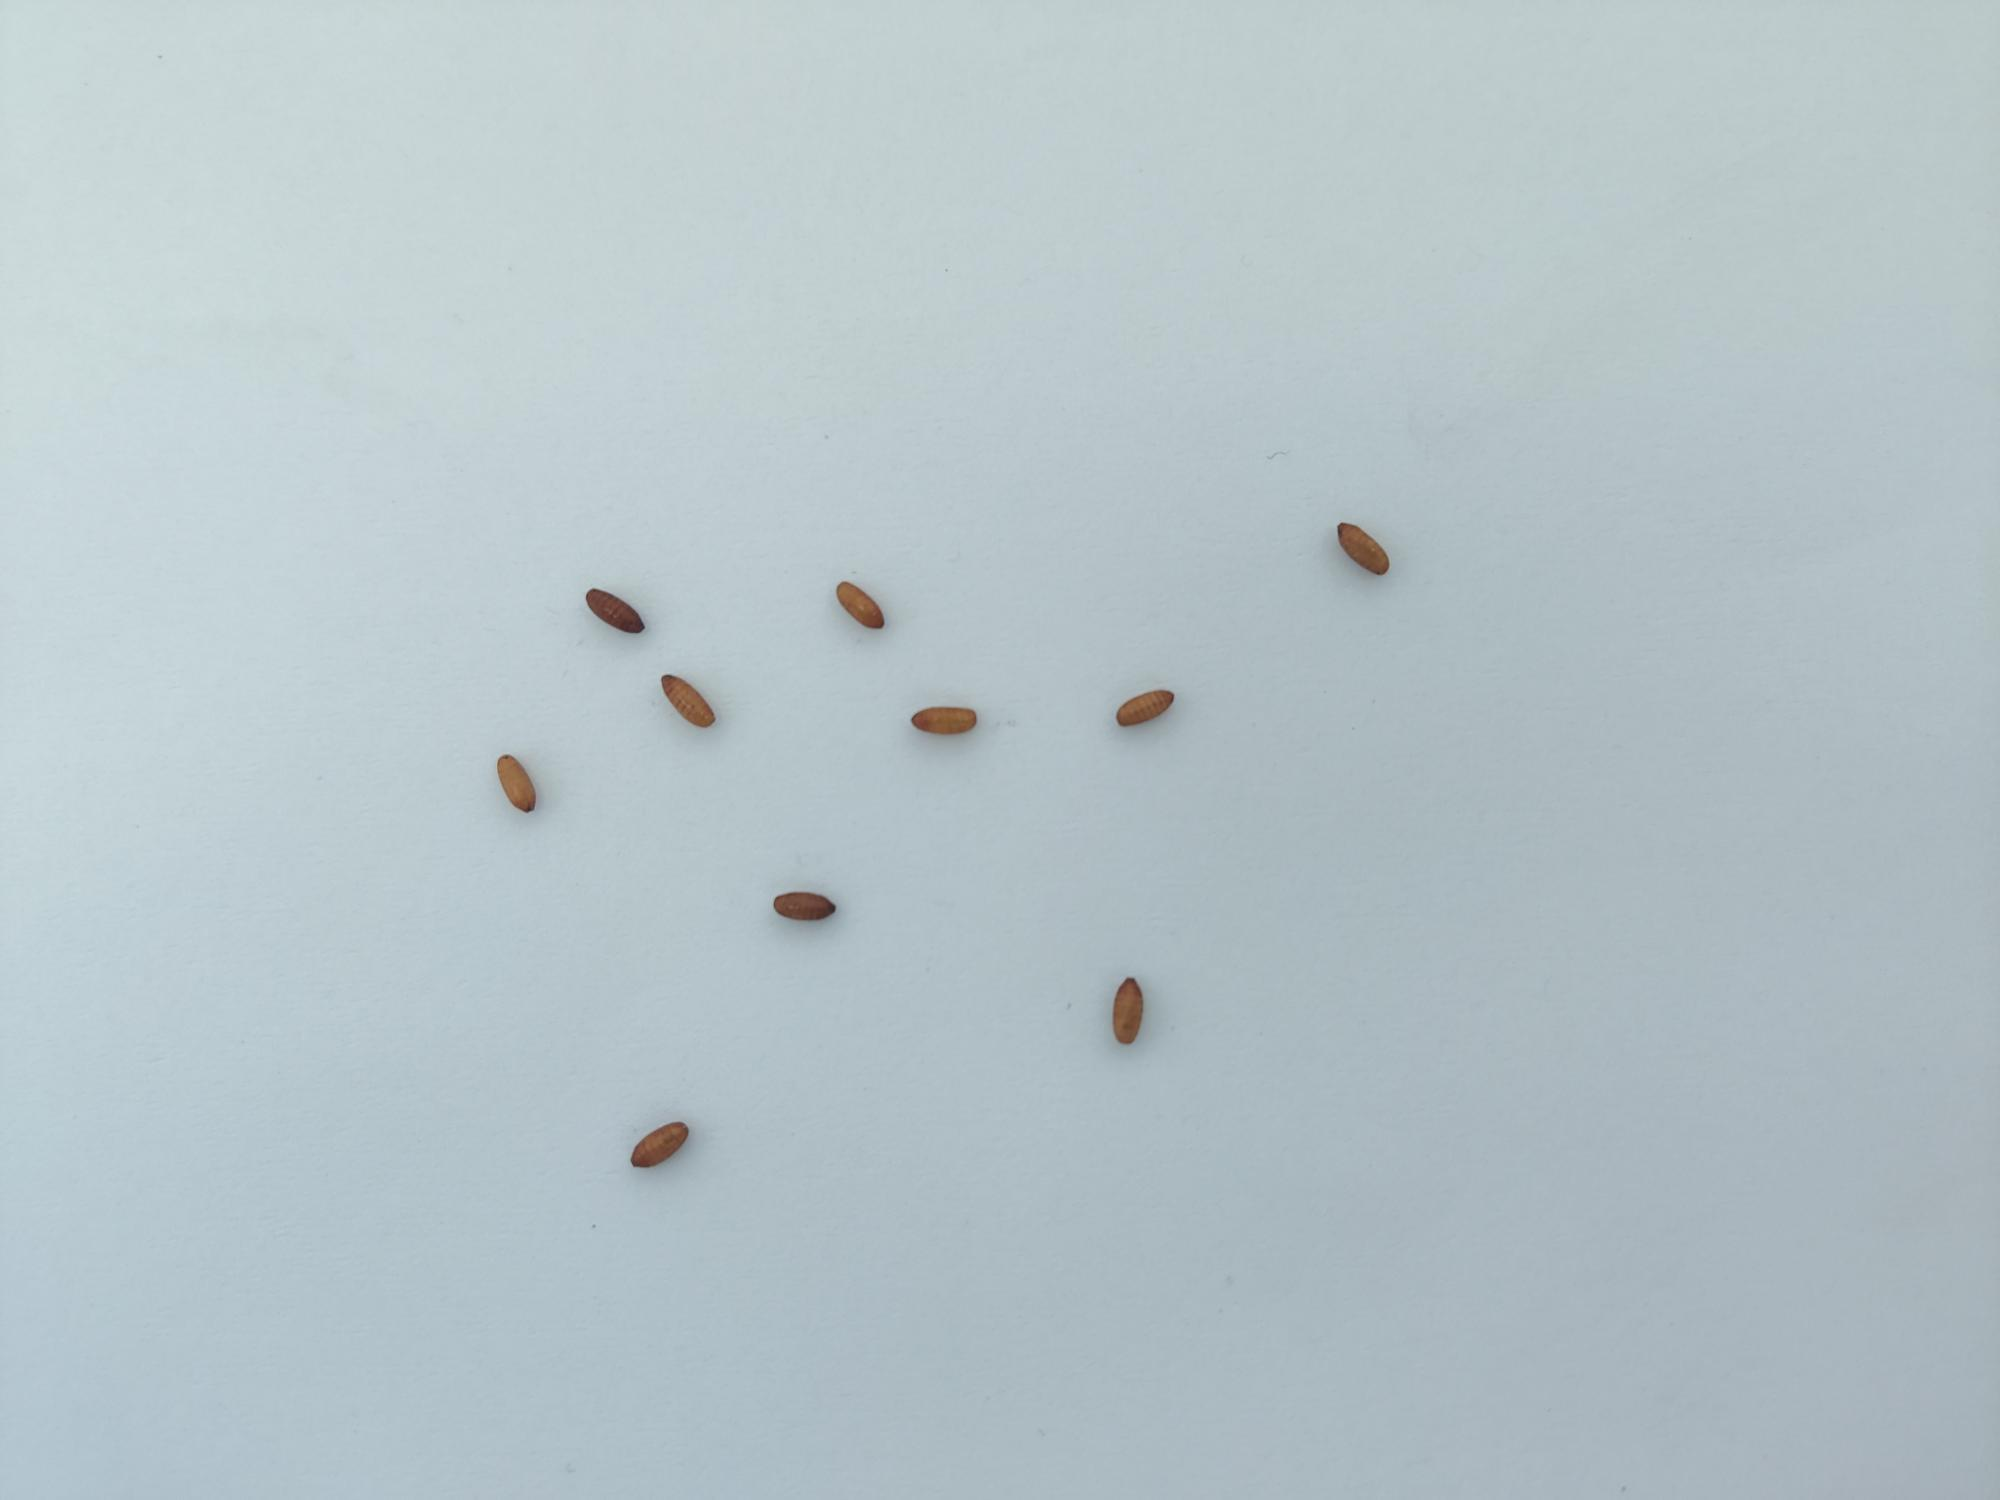pupae: (616, 1100, 707, 1182), (650, 670, 731, 747), (575, 580, 663, 648), (483, 739, 548, 827), (759, 876, 852, 936), (1329, 517, 1397, 585), (1101, 967, 1153, 1054), (1106, 682, 1183, 736), (828, 577, 896, 637), (901, 700, 986, 742)
